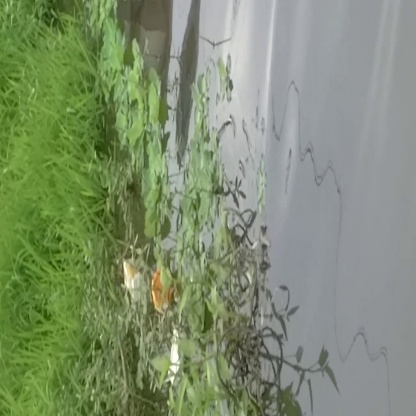grass: (4, 11, 108, 165)
